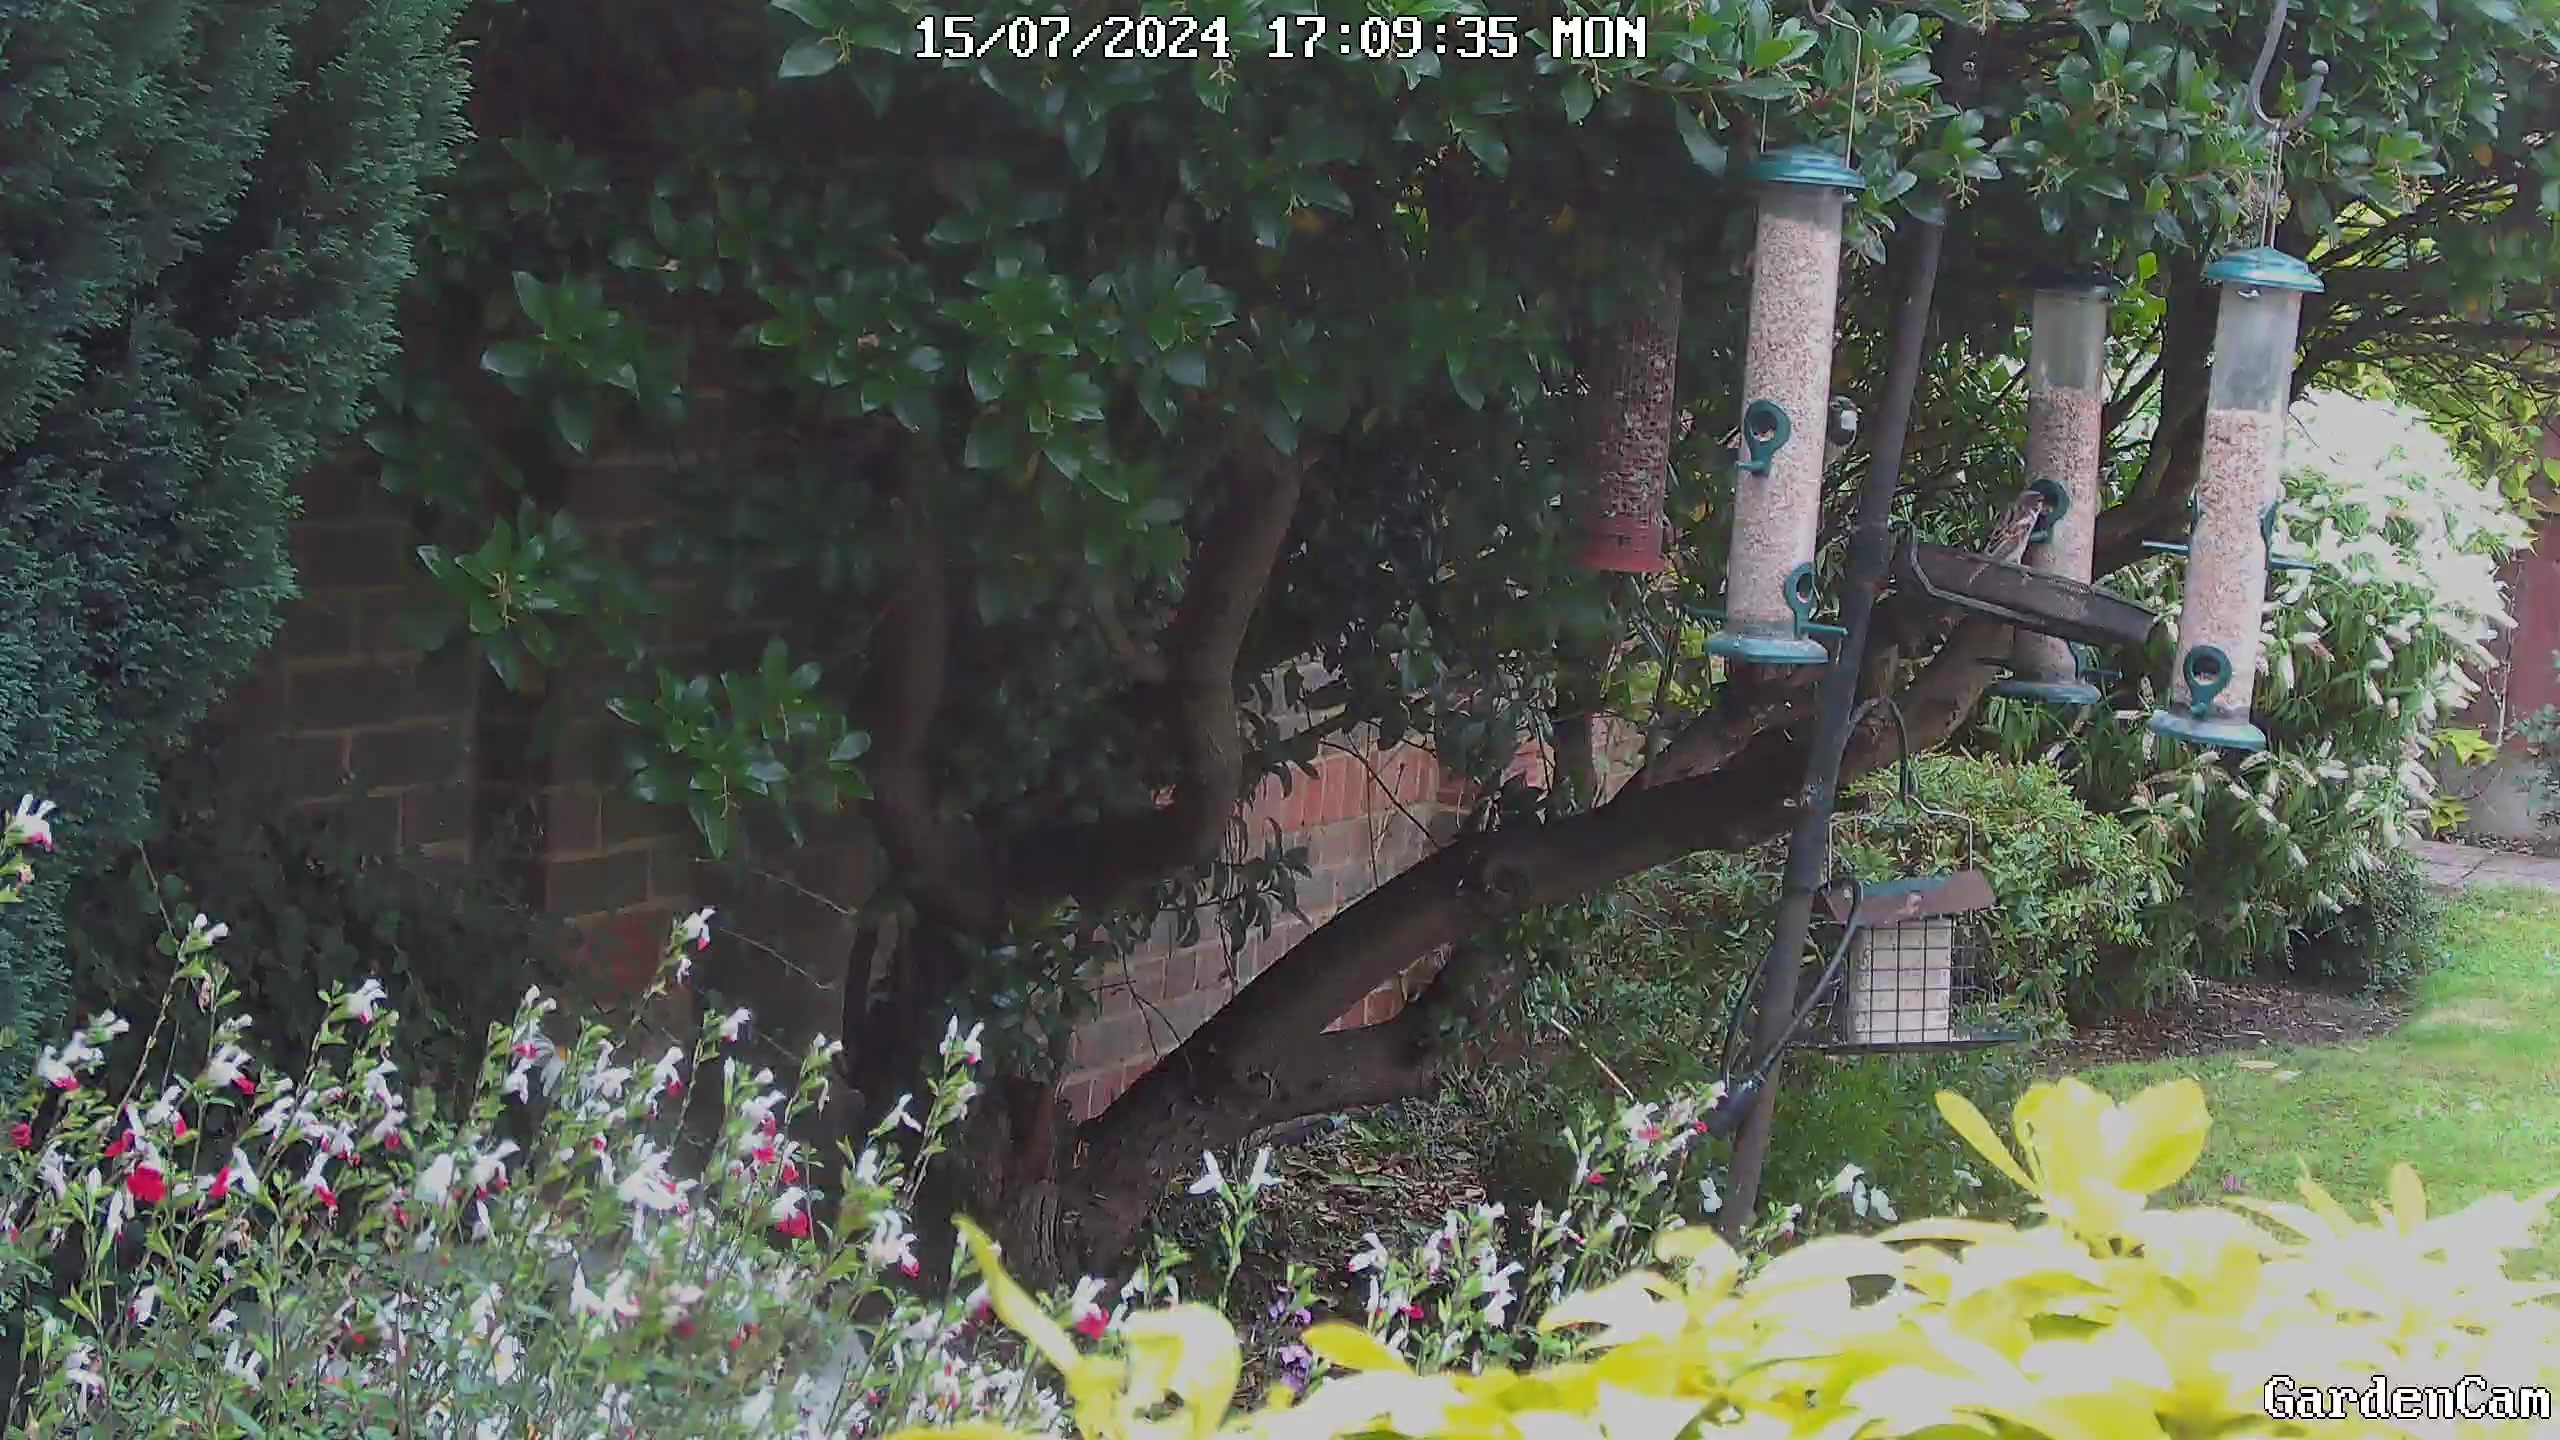House_Sparrow: (1960, 489, 2048, 605)
